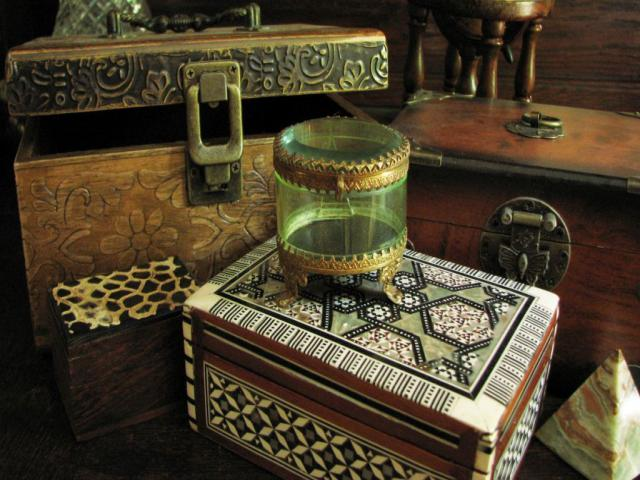Door-handle: (179, 62, 248, 191), (494, 206, 558, 286), (502, 105, 568, 139)
